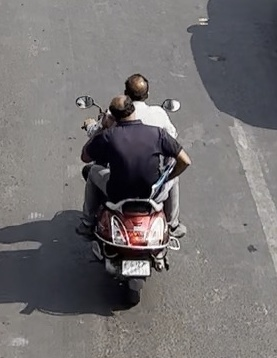BikeWithRider: (69, 66, 197, 308)
NoHelmet: (121, 71, 156, 100), (104, 95, 137, 125)
